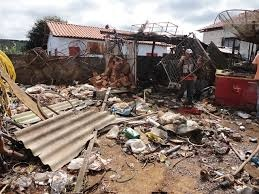rubble: (110, 97, 219, 154)
